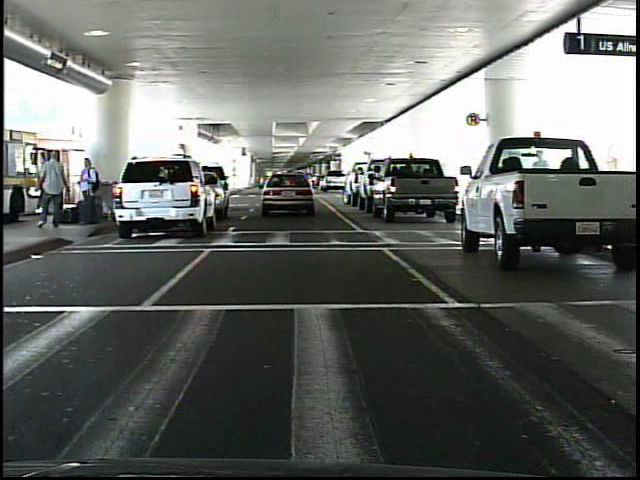person: (35, 148, 69, 230), (75, 155, 100, 227)
